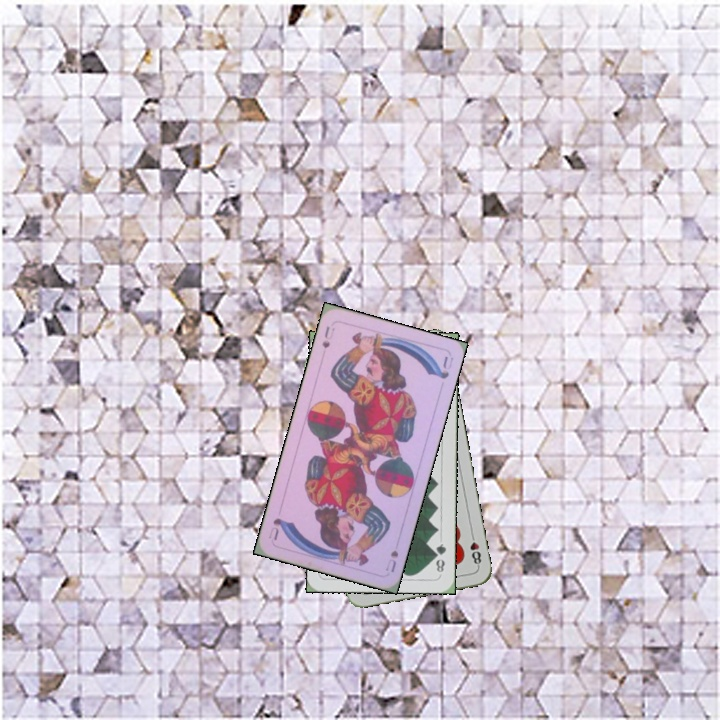G8: (431, 540, 449, 577)
H8: (466, 529, 484, 569)
SU: (381, 546, 401, 575), (318, 322, 337, 351)
